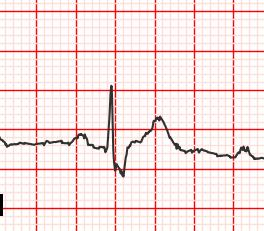ST Depression: (100, 136, 136, 179)
